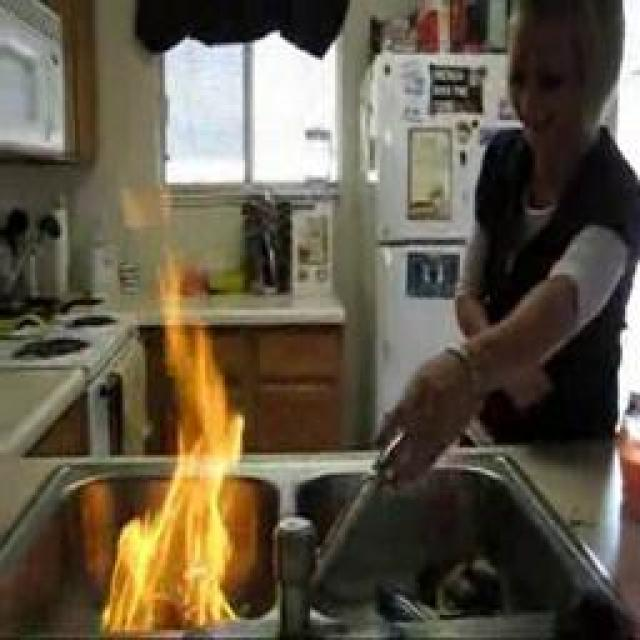Fire: (111, 236, 245, 640)
